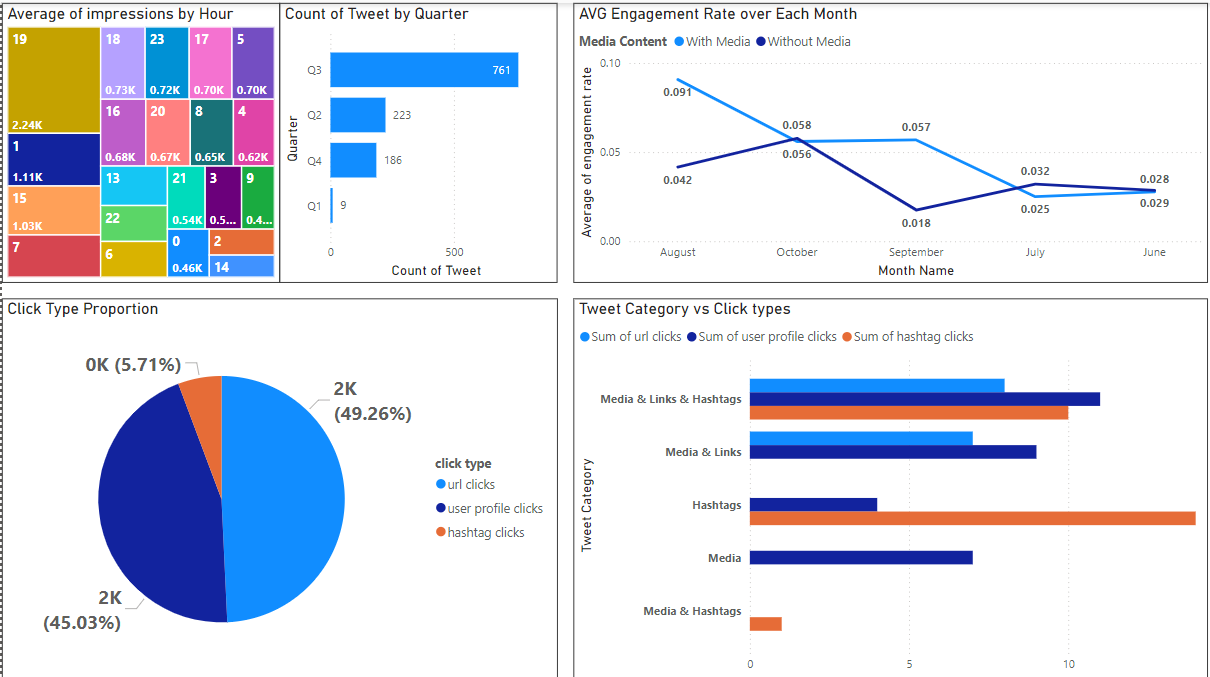

What the dashboard file says about the page in this screenshot:
{"tool":"powerbi","page":{"name":"dashboard","canvas":[1280,720],"ordinal":0},"visuals":[{"type":"clusteredBarChart","fields":{"Category":["SocialMedia (ans 2).Quarter","SocialMedia (ans 2).Month Name"],"Y":["CountNonNull(SocialMedia (ans 2).Tweet)"]},"box":[294.8,0,294.8,296.7],"z":0},{"type":"pieChart","title":"Click Type Proportion","fields":{"Category":["SocialMedia (2).click type","SocialMedia (2).Tweet","SocialMedia (2).id"],"Y":["Sum(SocialMedia (2).click count)"]},"box":[0,313.7,589.6,406.3],"z":2000},{"type":"clusteredBarChart","title":"Tweet Category vs Click types","fields":{"Category":["SocialMedia (ans 2).Tweet Category"],"Y":["Sum(SocialMedia (ans 2).url clicks)","Sum(SocialMedia (ans 2).user profile clicks)","Sum(SocialMedia (ans 2).hashtag clicks)"]},"box":[606.6,313.7,672.8,406.3],"z":2001},{"type":"lineChart","title":"AVG Engagement Rate over Each Month","fields":{"Category":["SocialMedia (ans 3).Month Name"],"Y":["Avg(SocialMedia (ans 3).engagement rate)"],"Series":["SocialMedia (ans 3).Media Content"]},"box":[606.6,0,672.8,296.7],"z":2002},{"type":"treemap","fields":{"Group":["SocialMedia (ans 2).Hour"],"Values":["Avg(SocialMedia (ans 2).impressions)"]},"box":[0,0,294.8,296.7],"z":2003}]}

Visuals, with their boxes in screenshot pixels (x1, y1, x2, y2), scaled from the page's 1280x720 canvas onto the 1210x677 screenshot:
clusteredBarChart - SocialMedia (ans 2).Quarter x SocialMedia (ans 2).Month Name: [x1=279, y1=0, x2=557, y2=279]
"Click Type Proportion" pieChart: [x1=0, y1=295, x2=557, y2=676]
"Tweet Category vs Click types" clusteredBarChart: [x1=573, y1=295, x2=1209, y2=676]
"AVG Engagement Rate over Each Month" lineChart: [x1=573, y1=0, x2=1209, y2=279]
treemap - SocialMedia (ans 2).Hour x Avg(SocialMedia (ans 2).impressions): [x1=0, y1=0, x2=279, y2=279]
